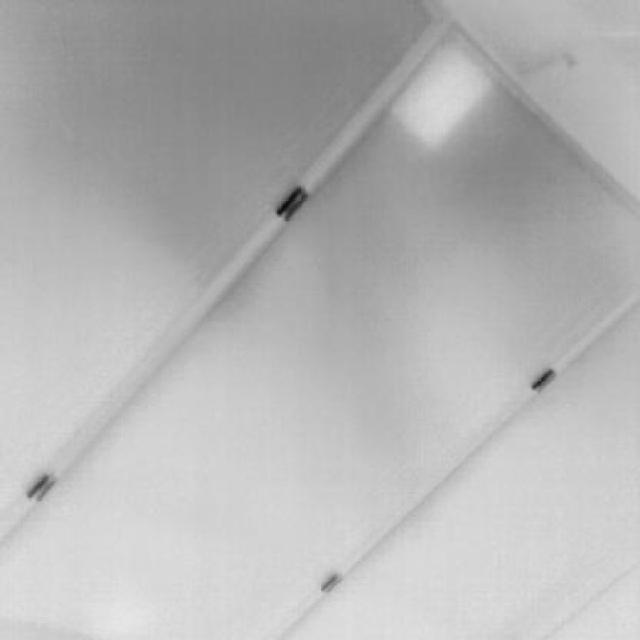hotspot: (386, 42, 503, 149)
